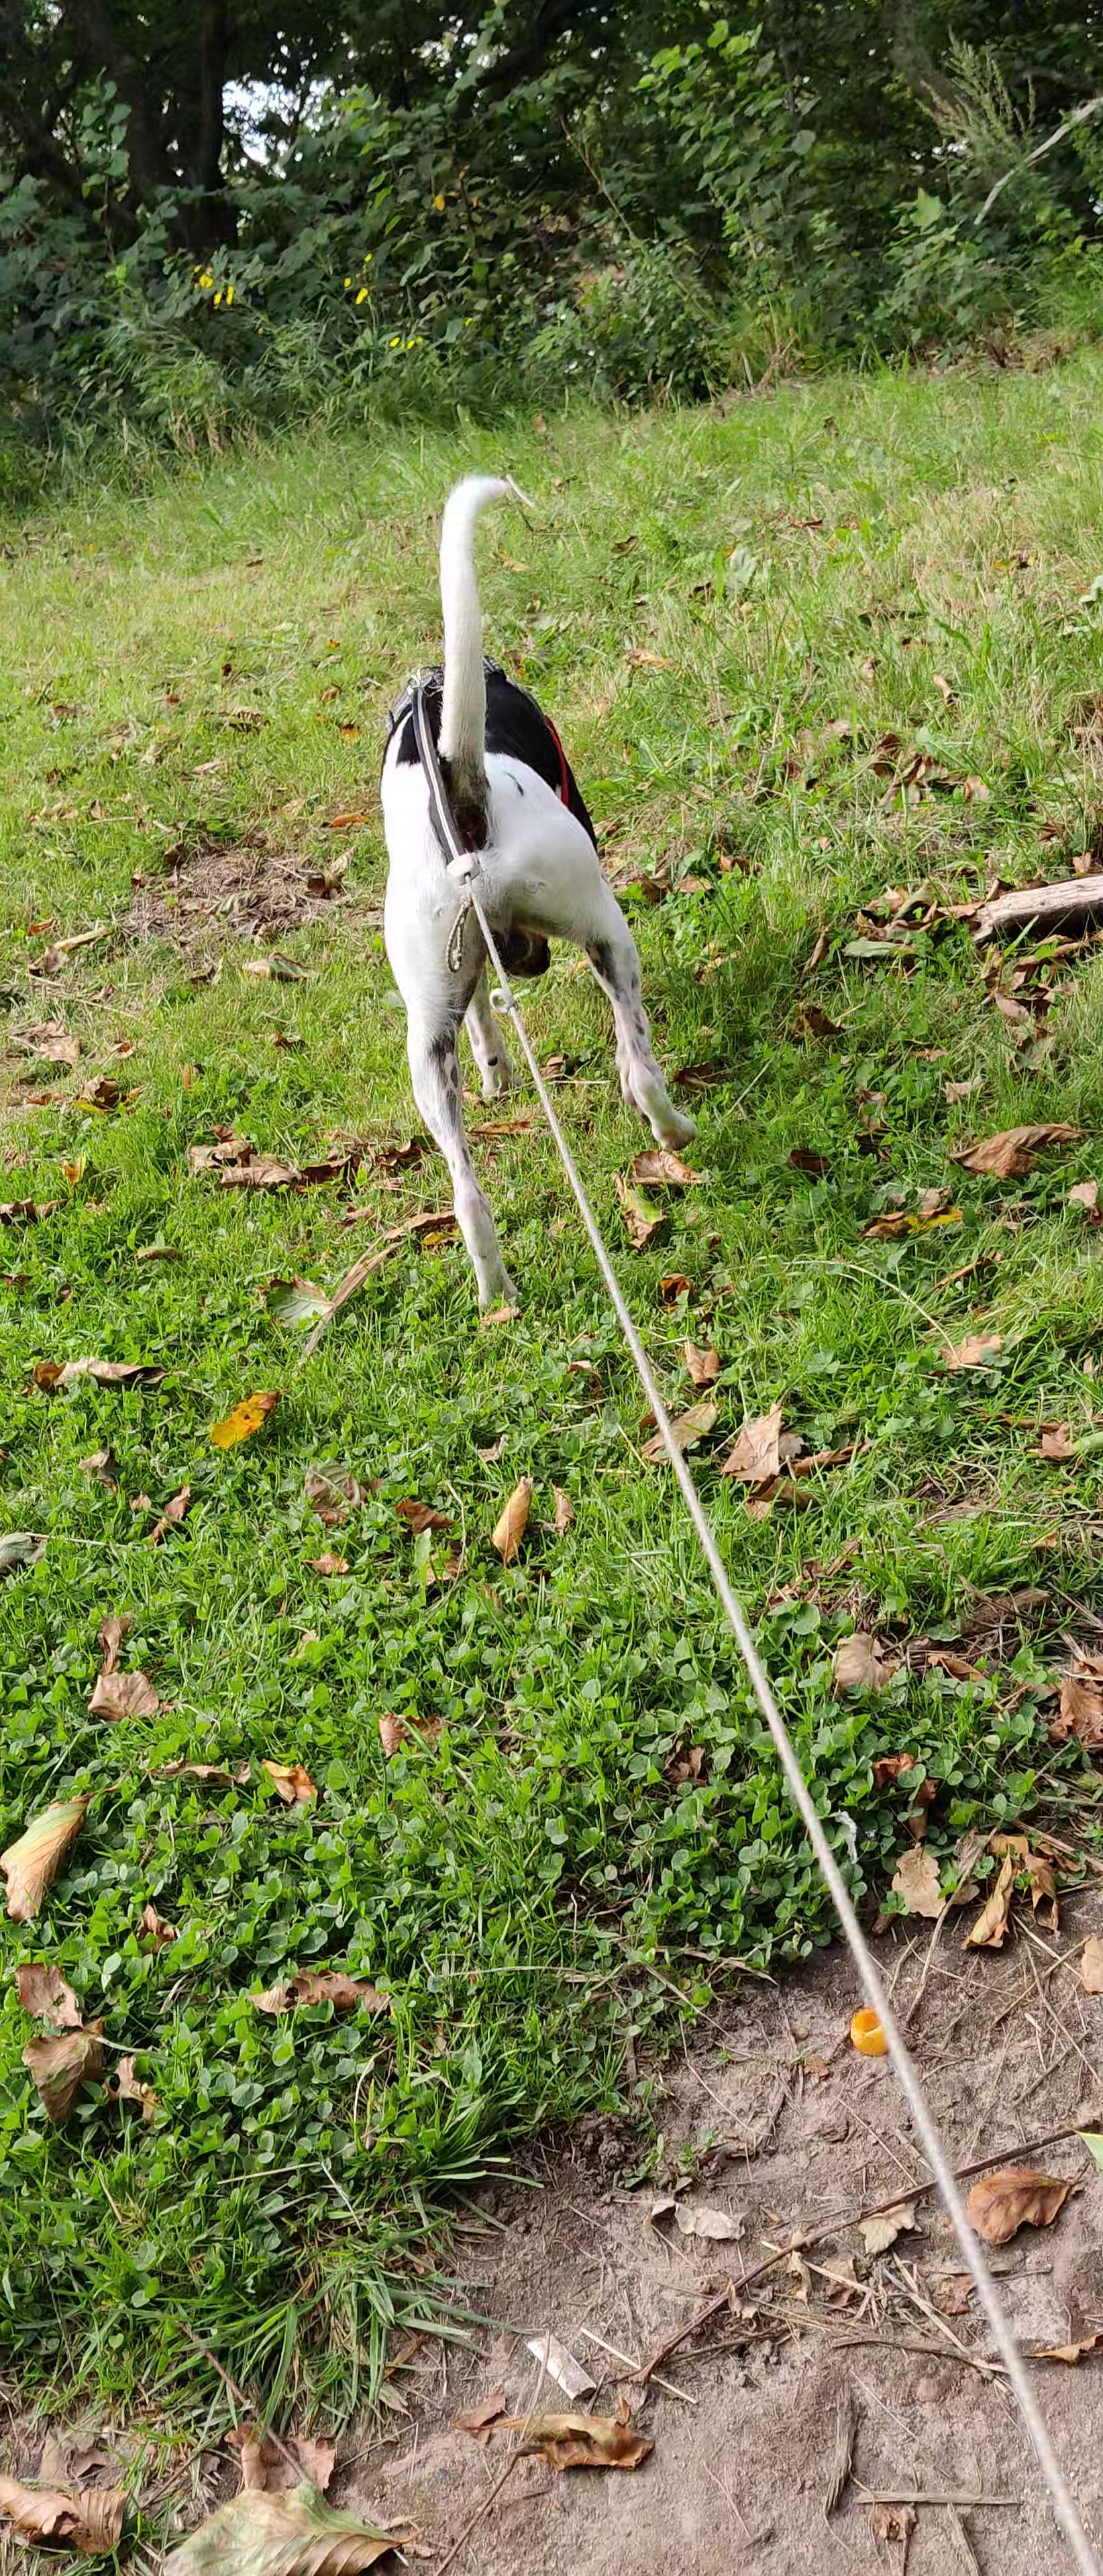Dog: (367, 462, 705, 1311)
